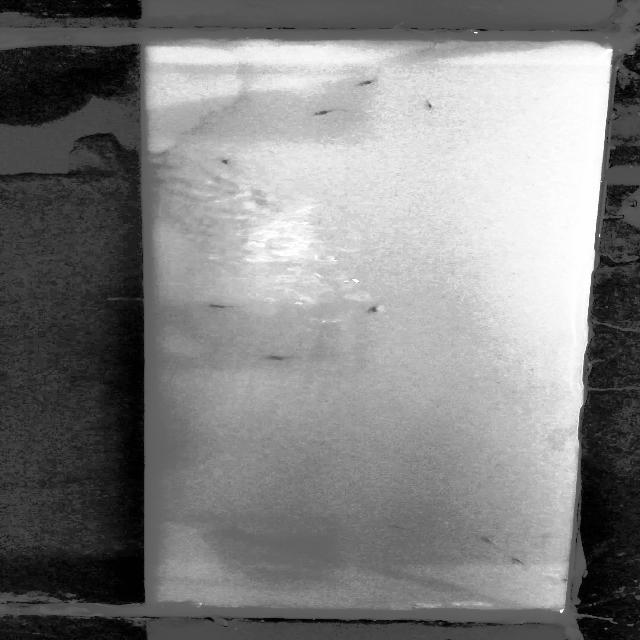shrimp: (364, 517, 414, 535), (200, 298, 246, 317), (356, 298, 392, 320), (301, 102, 342, 121), (417, 95, 444, 116), (505, 552, 532, 570), (259, 349, 287, 366), (353, 75, 386, 89), (209, 155, 241, 169), (472, 536, 492, 548)
